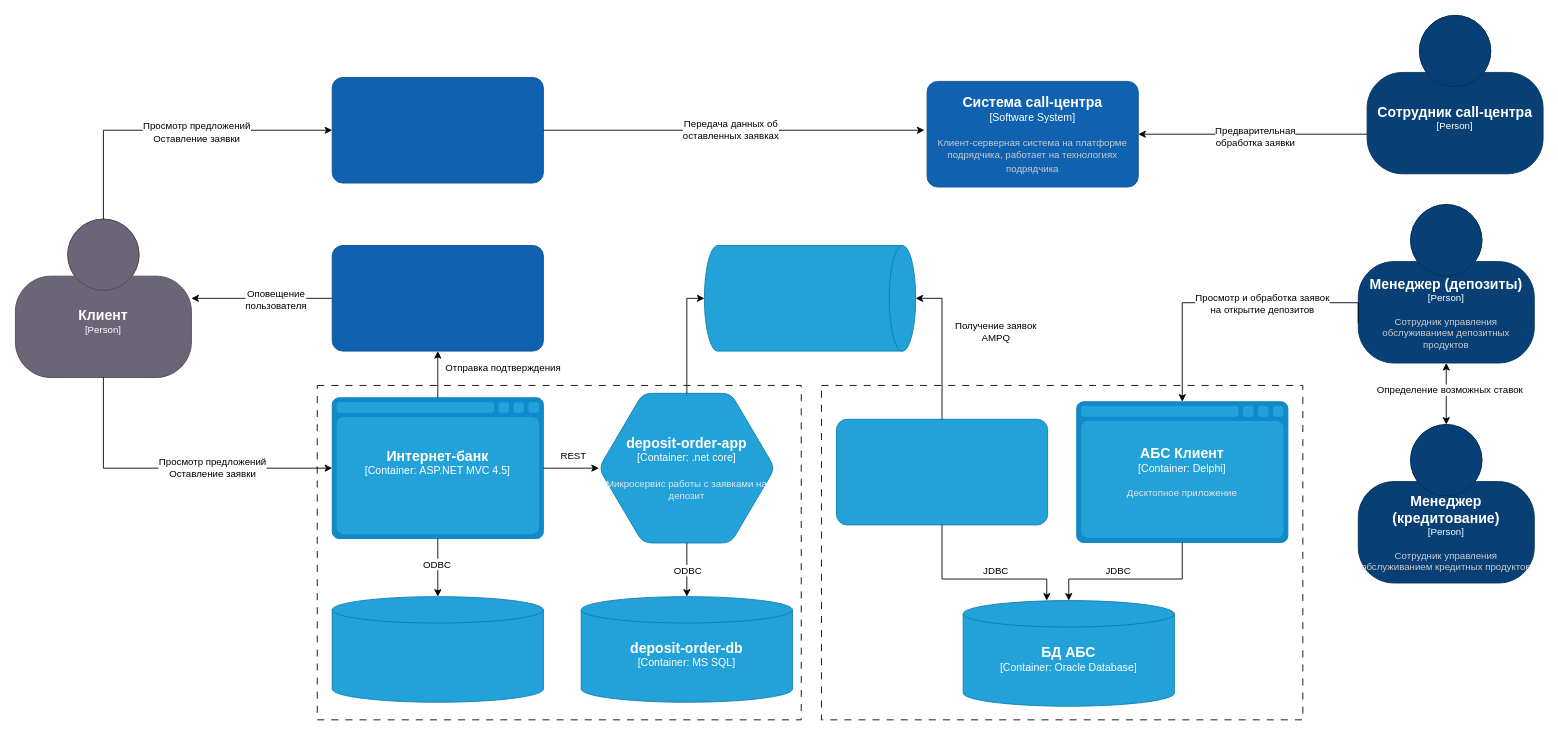
Some shapes in this 1558 by 736 pixel diagram are drawn without their labels. Here are the shapes that lost their labels. From the top down, the centre of each, then its label:
At point (437, 130): "Сайт [Software System] Сайт банка, дорабатываемыхй в рамках цифровизации".
At point (437, 298): "СМС-шлюз [Software System] Взаимодействие с телеком-оператором".
At point (810, 298): "Брокер сообщений [Container: Apache Kafka]".
At point (942, 471): "АБС API (gateway) [Container: .net core]".
At point (437, 649): "БД Интернет-банка [Container: MS SQL]".
